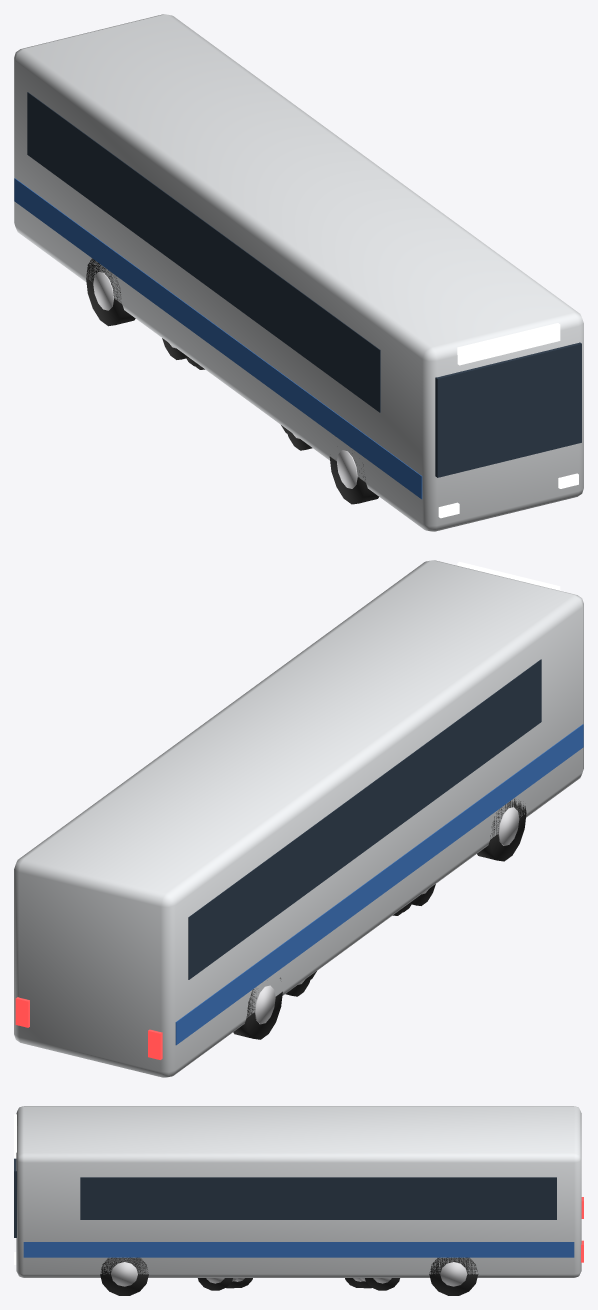
The model's file is vehicles.glb.
3 views of the same model, one above another, from view 1: azimuth 30°, elevation 25°; view 2: azimuth 150°, elevation 25°; view 3: azimuth 270°, elevation 25° (orthographic). The views are drawn at different scales.
Parts seen in each view (by area): view 1: Bus_Body, bus_Wheel11, bus_Wheel10; view 2: Bus_Body, bus_Wheel10, bus_Wheel11; view 3: Bus_Body, bus_Wheel00, bus_Wheel01, van_Wheel00, van_Wheel01.
Part boxes in pixels (x1,y1,x2,y2): Bus_Body: (14, 14, 583, 531); bus_Wheel11: (86, 258, 135, 326); bus_Wheel10: (329, 450, 378, 504); Bus_Body: (14, 560, 583, 1077); bus_Wheel10: (477, 798, 526, 861); bus_Wheel11: (233, 977, 282, 1039); Bus_Body: (14, 1106, 583, 1277); bus_Wheel00: (100, 1257, 148, 1295); bus_Wheel01: (429, 1257, 478, 1295); van_Wheel00: (198, 1278, 232, 1290); van_Wheel01: (365, 1278, 399, 1290).
Bounding box in the file's own units: 2.58 × 3.14 × 11.6.
